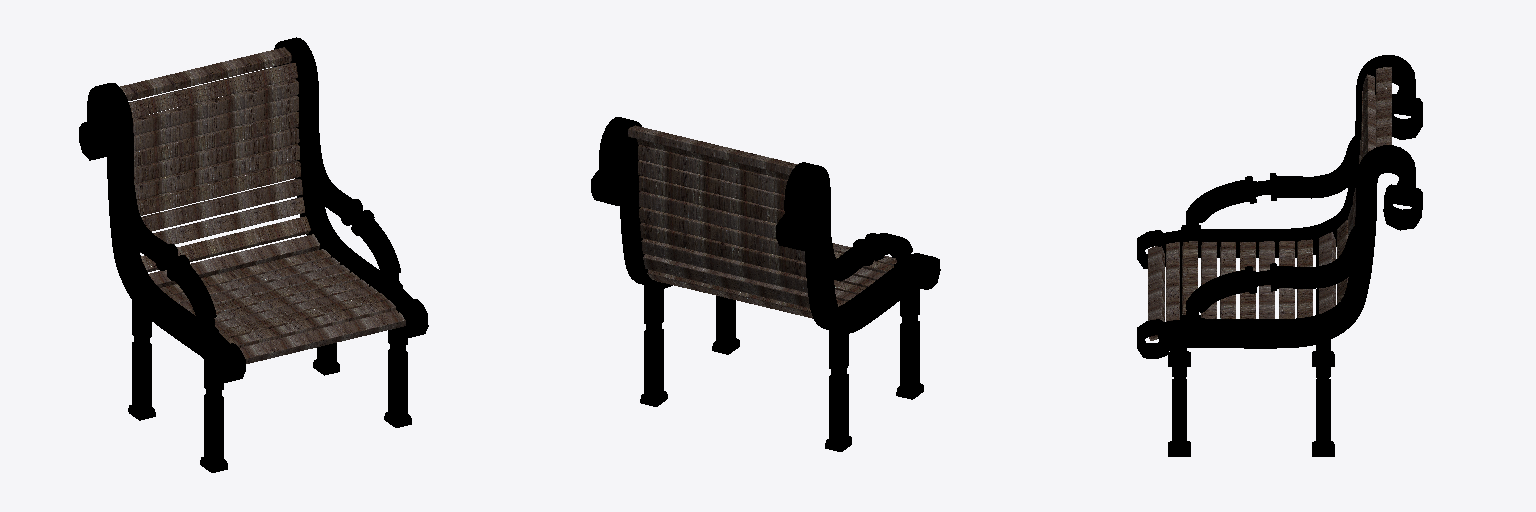
3 views of the same model, side by side, from view 1: azimuth 30°, elevation 25°; view 2: azimuth 150°, elevation 25°; view 3: azimuth 270°, elevation 25° (orthographic).
Parts seen in each view (by area): view 1: chair; view 2: chair; view 3: chair.
Boxes of the visible parts, <box> form: chair: <box>79,37,428,472</box>; chair: <box>591,117,940,451</box>; chair: <box>1137,55,1422,456</box>.
Bounding box in the file's own units: 4.69 × 6.37 × 5.43.
Materials: 2 (1 with a texture image).